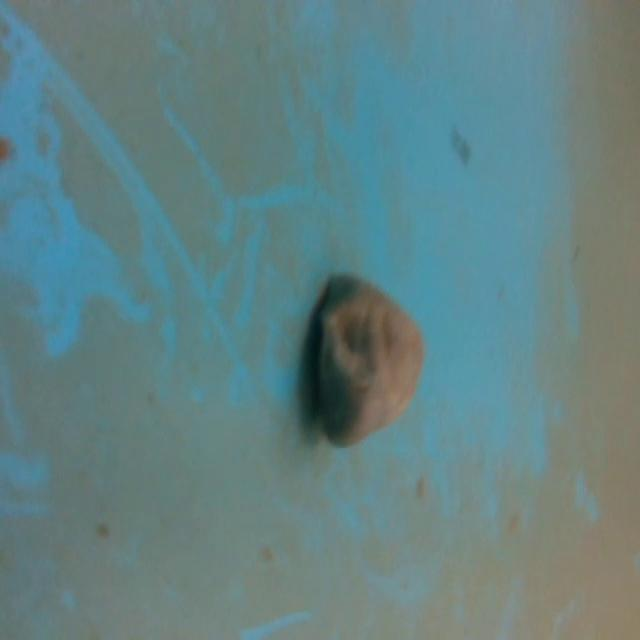rock: (296, 267, 431, 457)
